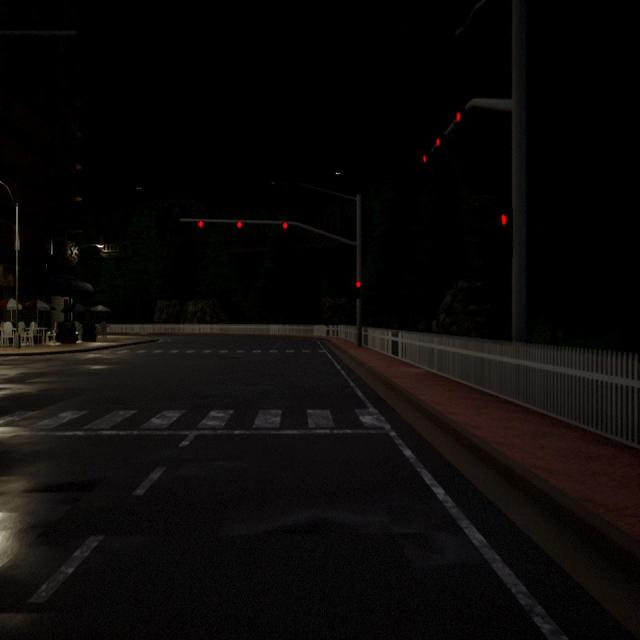traffic_light: (356, 280, 361, 298), (501, 214, 507, 225), (456, 111, 461, 122), (237, 220, 243, 228), (282, 221, 288, 229), (436, 138, 441, 147), (198, 220, 204, 227), (423, 156, 427, 163)
